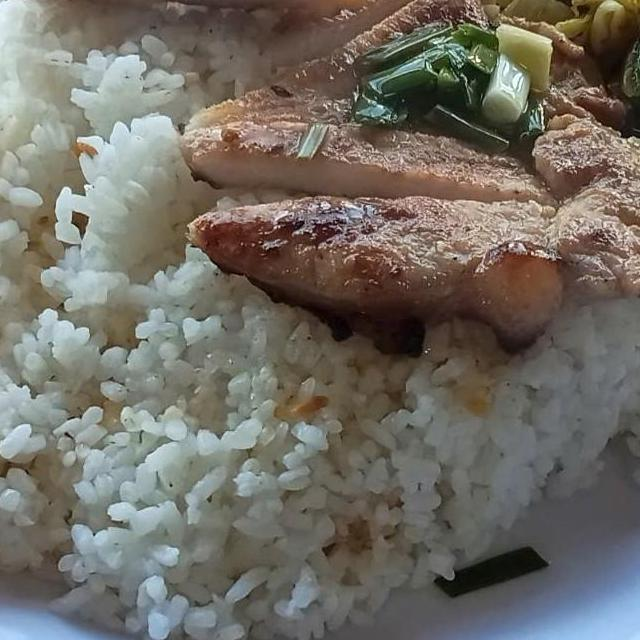com: (0, 0, 640, 640)
dua chua: (252, 0, 640, 96)
suon: (175, 0, 640, 363)
